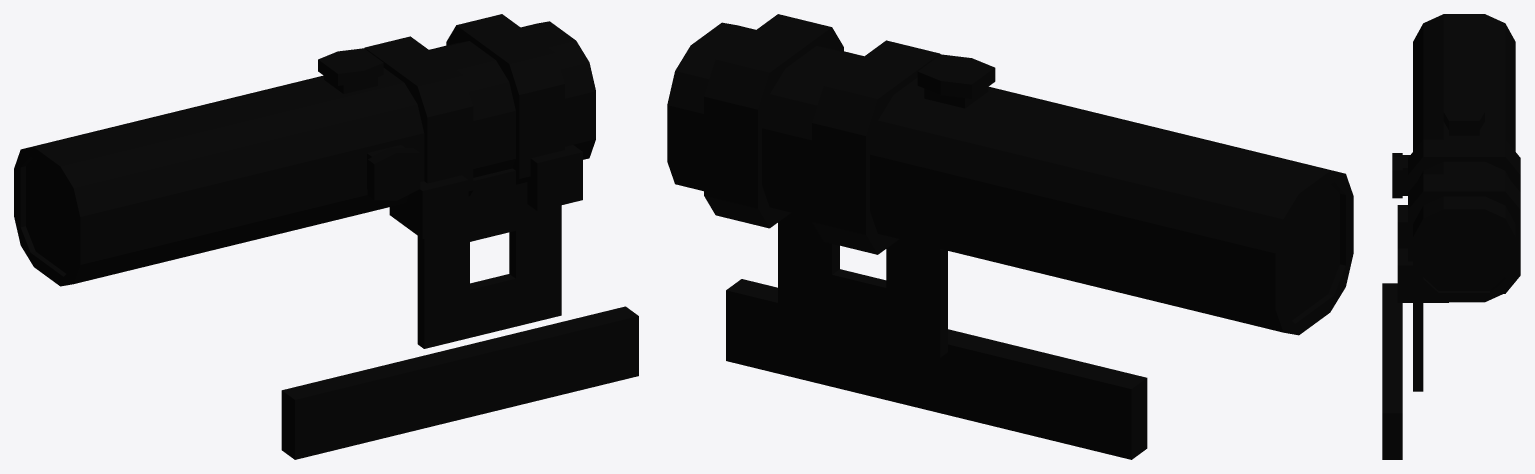
File: thermal.obj
3 views of the same model, side by side, from view 1: azimuth 30°, elevation 25°; view 2: azimuth 150°, elevation 25°; view 3: azimuth 270°, elevation 25° (orthographic). The views are drawn at different scales.
Visible parts, largest first — view 1: scope9, scope1, scope8, scope2, scope3, scope31, scope24, scopeOverlay, scope6, scope34, scope33, scope5 (+8 smaller); view 2: scope10, scope1, scope8, scope32, scope25, scope2, scopeOverlay, scope3, scope33, scope27, scope4, scope30 (+3 smaller); view 3: scope8, scope11, scope1, scope27, scope33, scope9, scope10, scope34, scope3, scope32, scope31, scope35 (+8 smaller).
Part boxes in pixels (x1,y1,x2,y2): scope9: (73, 62, 595, 283); scope1: (281, 306, 638, 459); scope8: (21, 21, 588, 187); scope2: (417, 196, 469, 348); scope3: (509, 182, 561, 326); scope31: (509, 53, 564, 184); scope24: (417, 75, 473, 195); scopeOverlay: (26, 159, 73, 273); scope6: (389, 175, 468, 238); scope34: (527, 145, 582, 210); scope33: (456, 14, 554, 81); scope5: (470, 168, 515, 241); scope10: (667, 71, 1283, 332); scope1: (726, 279, 1147, 459); scope8: (675, 22, 1345, 219); scope32: (704, 60, 769, 228); scope25: (812, 86, 877, 254); scope2: (886, 239, 947, 357); scopeOverlay: (1283, 184, 1339, 319); scope3: (778, 212, 839, 331); scope33: (716, 14, 831, 227); scope27: (824, 40, 940, 254); scope4: (832, 269, 886, 344); scope30: (940, 58, 995, 98); scope8: (1423, 14, 1505, 218); scope11: (1423, 218, 1505, 290); scope1: (1382, 283, 1402, 459); scope27: (1423, 139, 1505, 170); scope33: (1423, 174, 1505, 293); scope9: (1413, 23, 1423, 292); scope10: (1505, 23, 1515, 292); scope34: (1397, 248, 1448, 302); scope3: (1413, 303, 1423, 391); scope32: (1505, 174, 1520, 293); scope31: (1408, 174, 1423, 261); scope35: (1443, 112, 1484, 130).
Bounding box in the file's own units: 4.7 × 2.78 × 1.35.
Materials: 1 (1 with a texture image).
